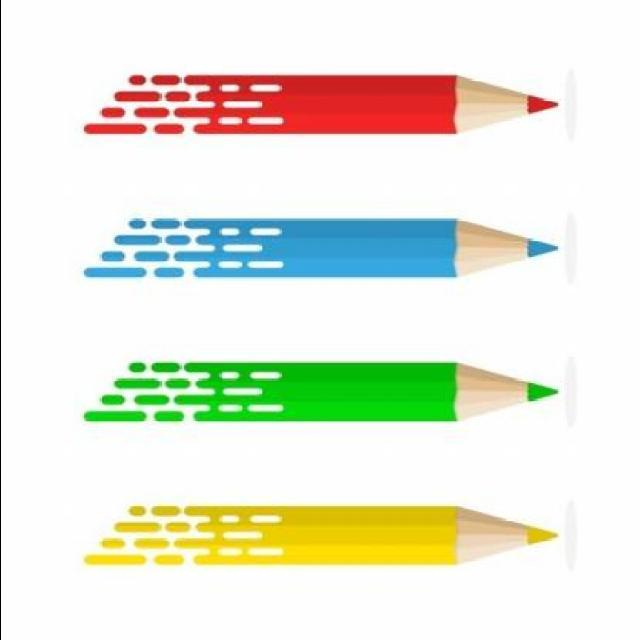Pencil: (421, 208, 565, 288), (422, 355, 566, 431), (430, 499, 568, 572), (424, 68, 567, 137)
